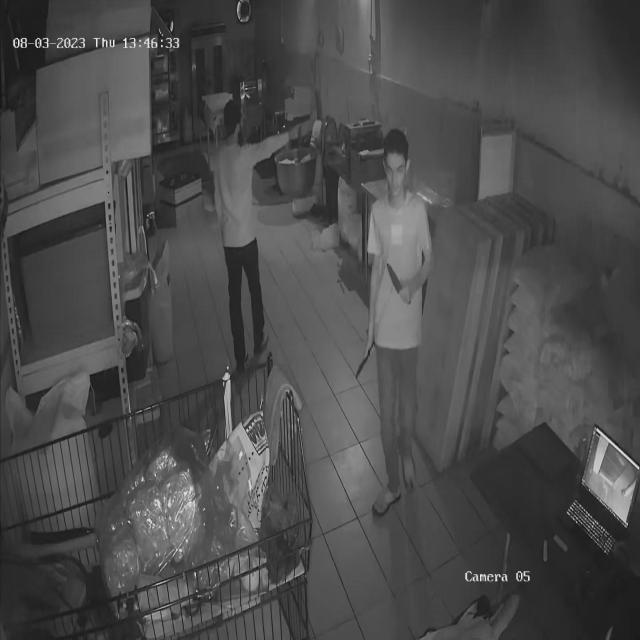Knife: (384, 258, 419, 320)
